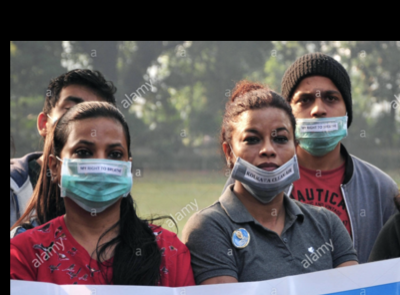mask_weared_incorrect: (233, 121, 295, 199), (289, 84, 350, 154)
with_mask: (60, 136, 130, 211)
